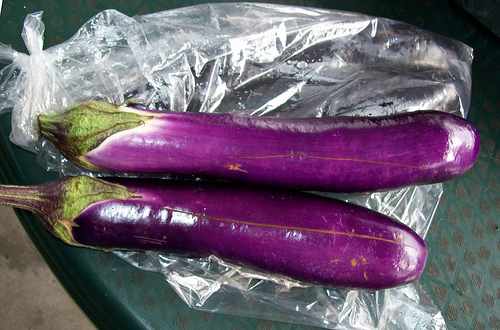eggplant: (5, 166, 430, 295), (28, 90, 436, 200)
